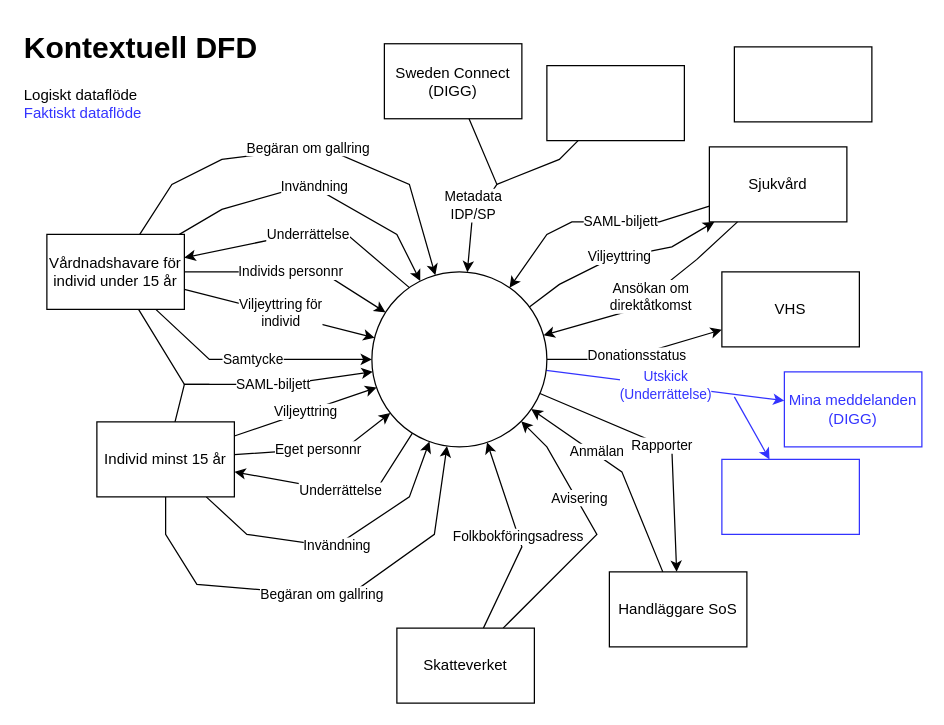
Some shapes in this 944 by 725 pixel diagram are drawn without their labels. Each missing label, with the centre of its shape:
"Donationsregister" goes at point 459,359.
"RMV (Polisen)" goes at point 802,84.
"Sambandstorget (INERA)" goes at point 615,102.
"Utskrift och kuvertering" goes at point 790,496.
